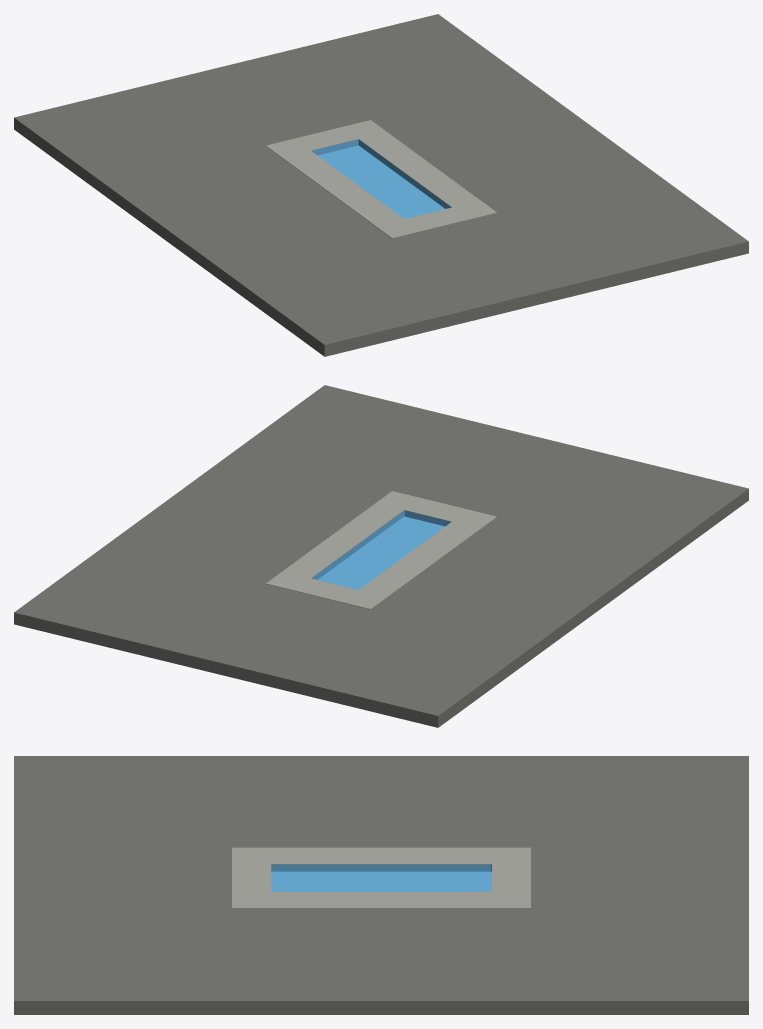
Rendered from pool.dae.
3 views of the same model, one above another, from view 1: azimuth 30°, elevation 25°; view 2: azimuth 150°, elevation 25°; view 3: azimuth 270°, elevation 25° (orthographic). The views are drawn at different scales.
Visible parts, largest first — view 1: test_pool v1; view 2: test_pool v1; view 3: test_pool v1.
Part boxes in pixels (x1,y1,x2,y2): test_pool v1: (14,14,748,356); test_pool v1: (14,385,748,727); test_pool v1: (14,756,748,1014).
Bounding box in the file's own units: 93 × 118 × 2.6.
